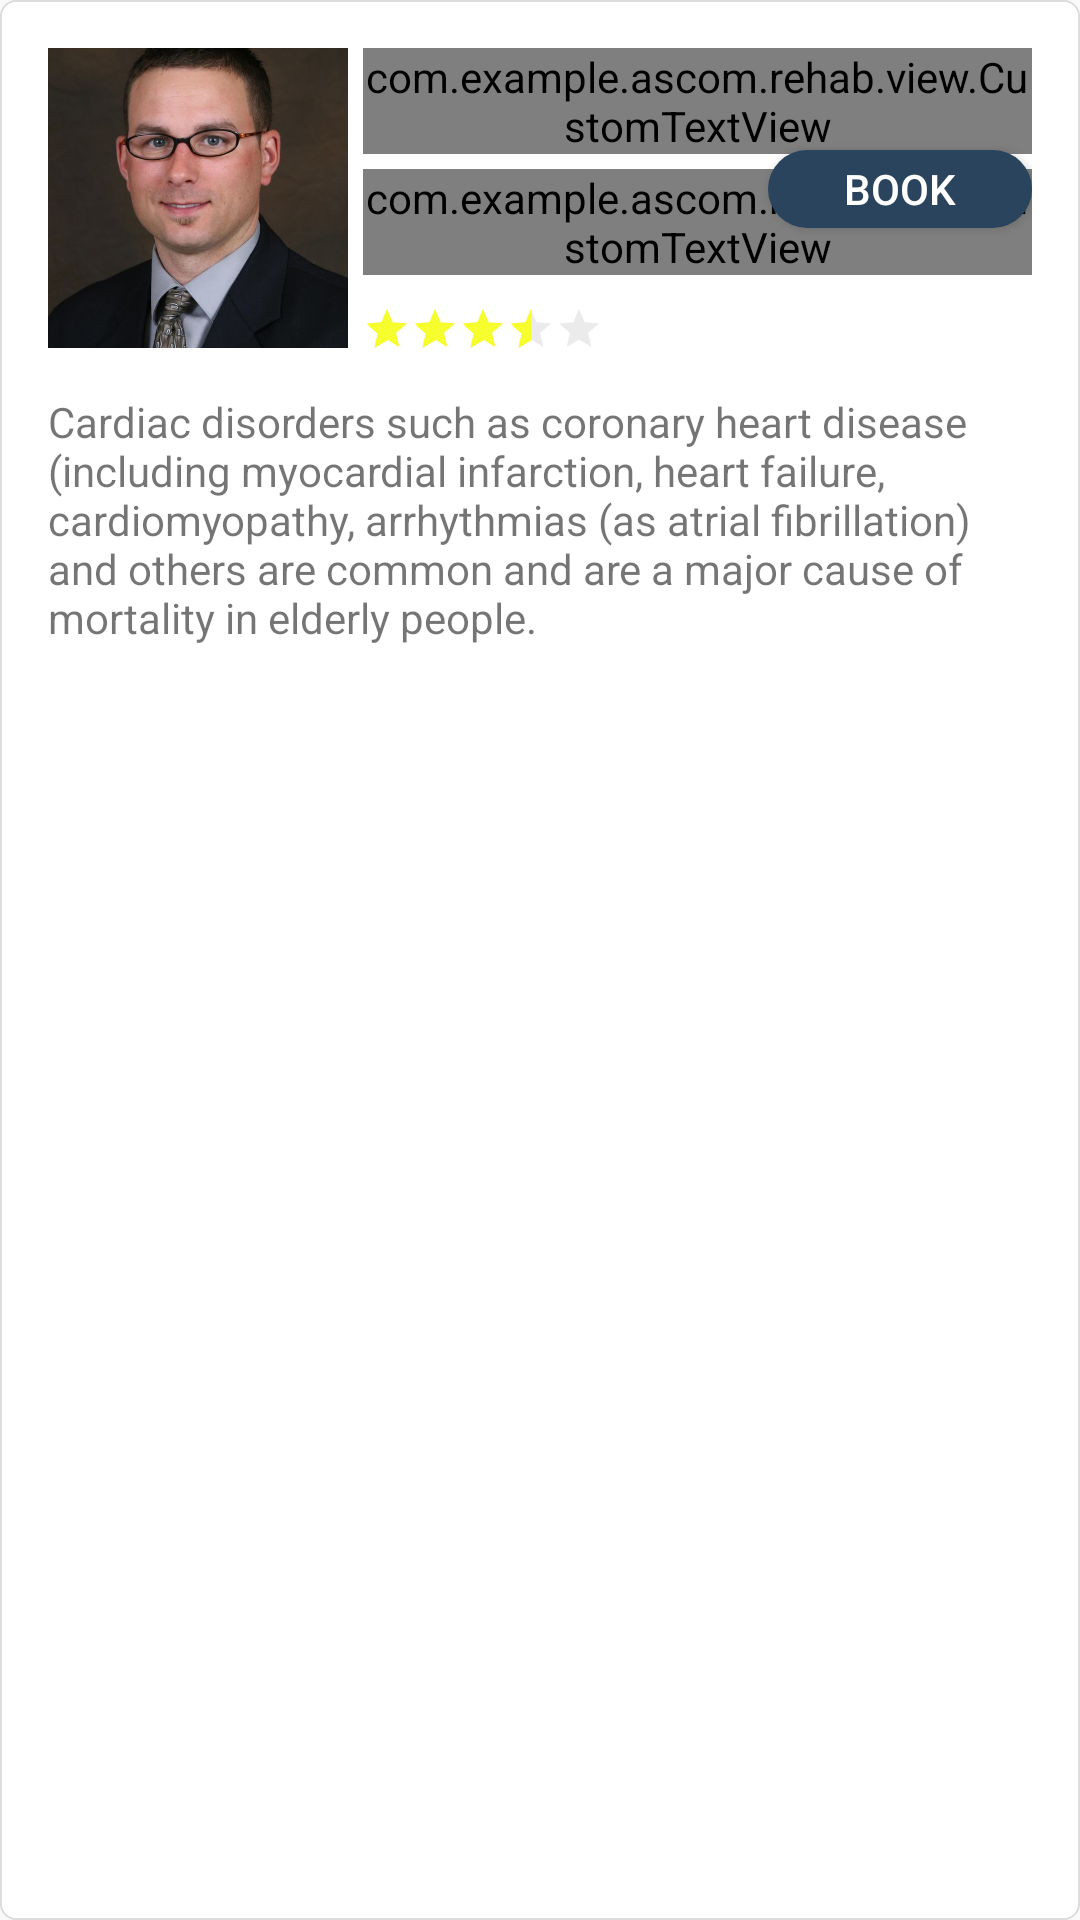

Screen size 1080×1920. Icon name, then its center in pixels as (x=x, y=y):
profile: (x=198, y=198)
